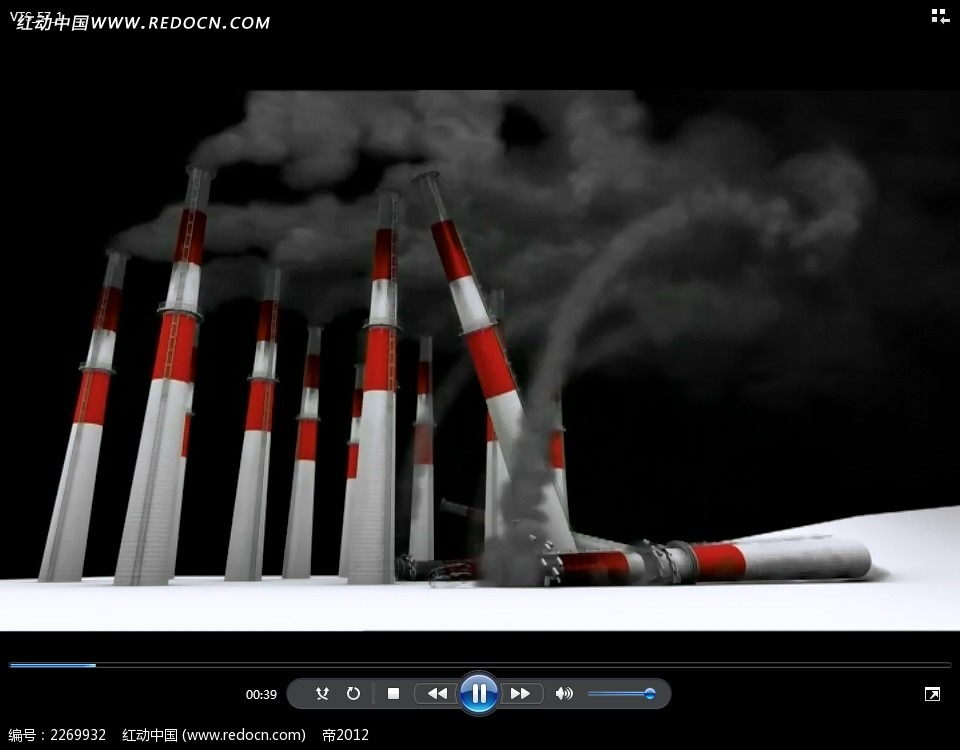dust: (187, 91, 334, 171)
